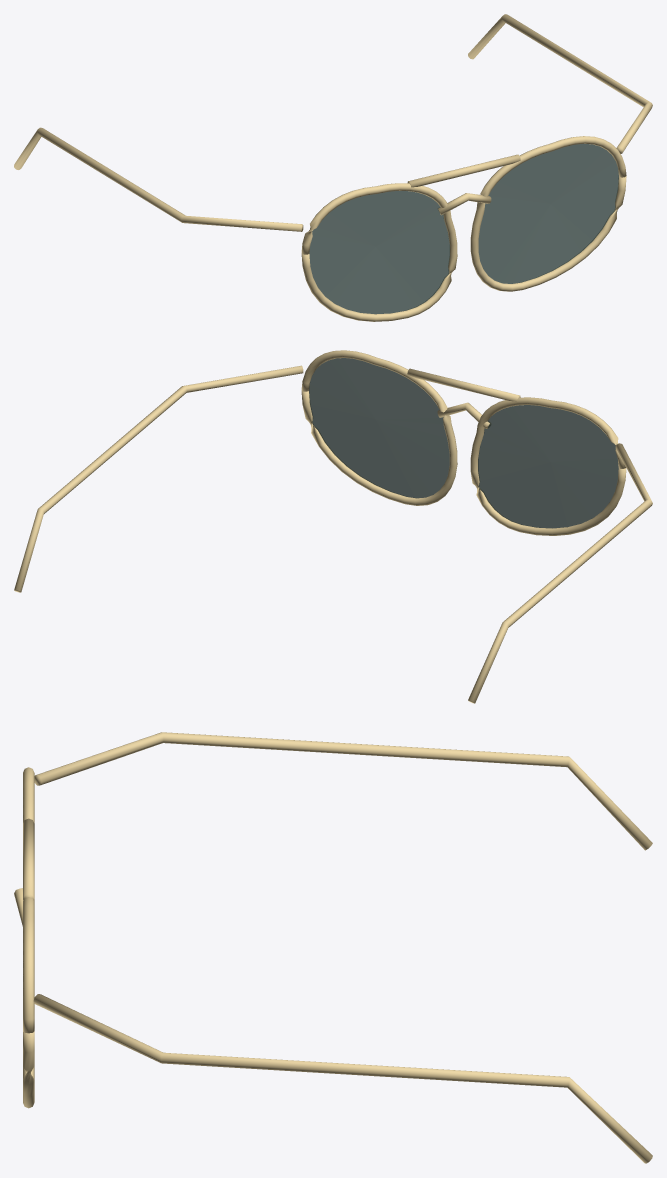
File: acc_glasses_aviator_female.glb
The picture shows the model from 3 angles, top to bottom: view 1: azimuth 30°, elevation 25°; view 2: azimuth 150°, elevation 25°; view 3: azimuth 270°, elevation 25°; orthographic projection. The views are drawn at different scales.
Parts seen in each view (by area): view 1: glasses_aviator; view 2: glasses_aviator; view 3: glasses_aviator.
Part boxes in pixels (<box>): glasses_aviator: <box>14,14,652,321</box>; glasses_aviator: <box>14,350,652,703</box>; glasses_aviator: <box>14,732,652,1163</box>.
Bounding box in the file's own units: 0.1726 × 0.049 × 0.1433.
